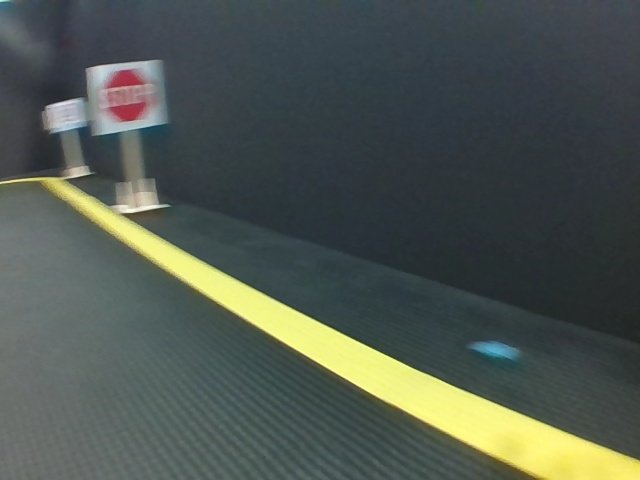30: (46, 102, 82, 127)
stop: (89, 65, 171, 128)
